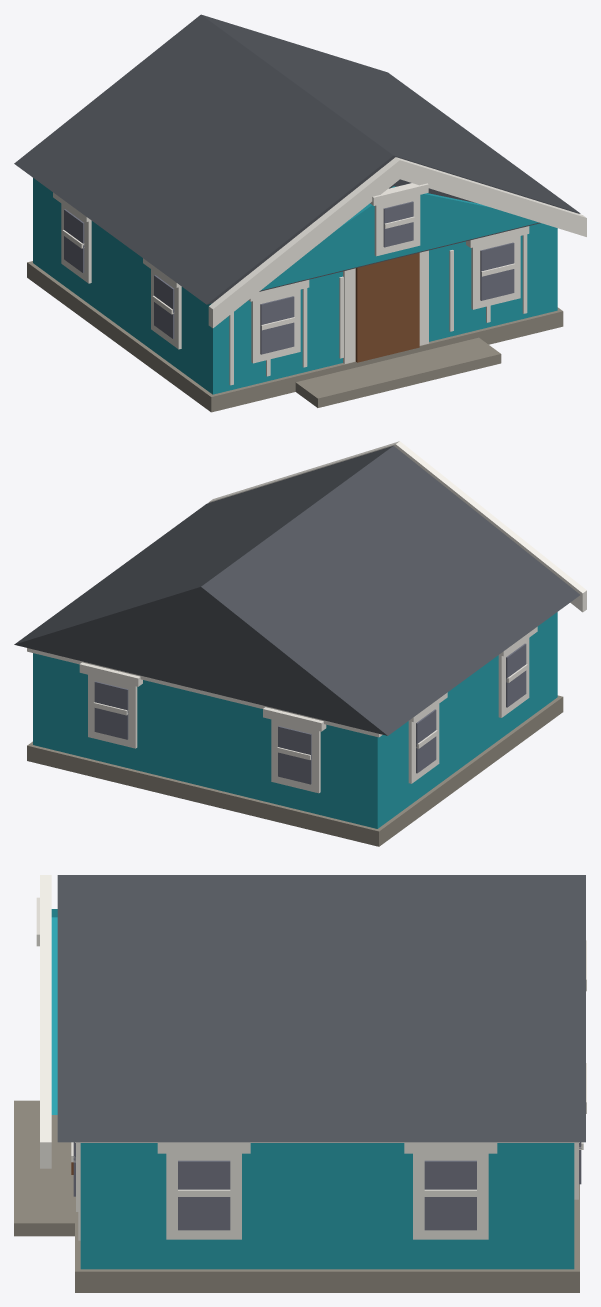
File: house-1x1-1f-valparaiso-a.glb
3 renders of one model, top to bottom at view 1: azimuth 30°, elevation 25°; view 2: azimuth 150°, elevation 25°; view 3: azimuth 270°, elevation 25°, orthographic. The views are drawn at different scales.
Parts seen in each view (by area): view 1: house-1x1-1f-valparaiso-a; view 2: house-1x1-1f-valparaiso-a; view 3: house-1x1-1f-valparaiso-a.
Part boxes in pixels (<box>): house-1x1-1f-valparaiso-a: <box>14,14,586,412</box>; house-1x1-1f-valparaiso-a: <box>14,441,586,846</box>; house-1x1-1f-valparaiso-a: <box>14,875,586,1292</box>.
Bounding box in the file's own units: 1.02 × 0.57 × 0.987.
Materials: 1 (1 with a texture image).
